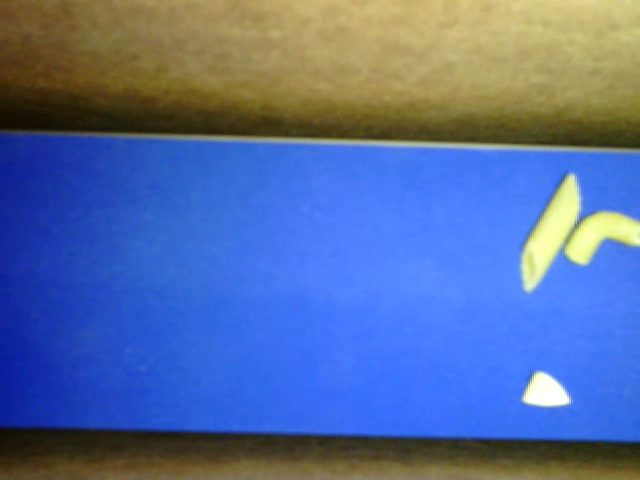elbow: (564, 208, 639, 267)
penne: (518, 173, 582, 292)
